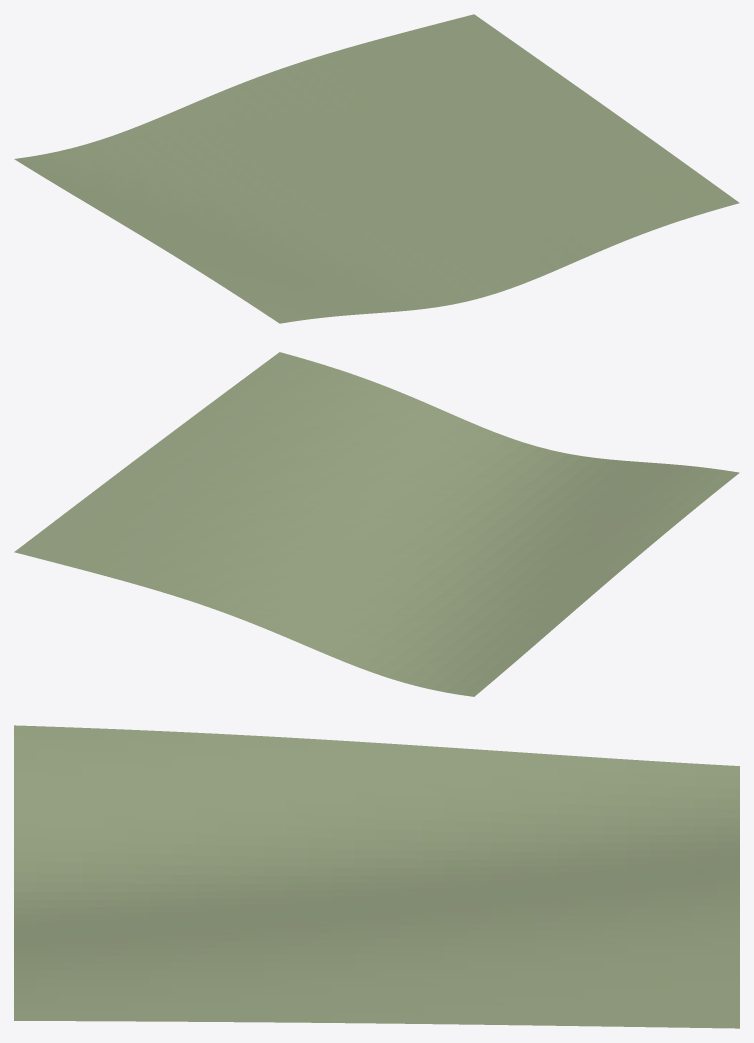
The model's file is desert-12-18.glb.
3 renders of one model, top to bottom at view 1: azimuth 30°, elevation 25°; view 2: azimuth 150°, elevation 25°; view 3: azimuth 270°, elevation 25°, orthographic. The views are drawn at different scales.
Parts seen in each view (by area): view 1: desert-12-18; view 2: desert-12-18; view 3: desert-12-18.
Part boxes in pixels (x1=…): desert-12-18: x1=14, y1=14, x2=739, y2=323; desert-12-18: x1=14, y1=352, x2=739, y2=696; desert-12-18: x1=14, y1=725, x2=739, y2=1028.
Size of the model in its own units: 512 by 44.03 by 512.
